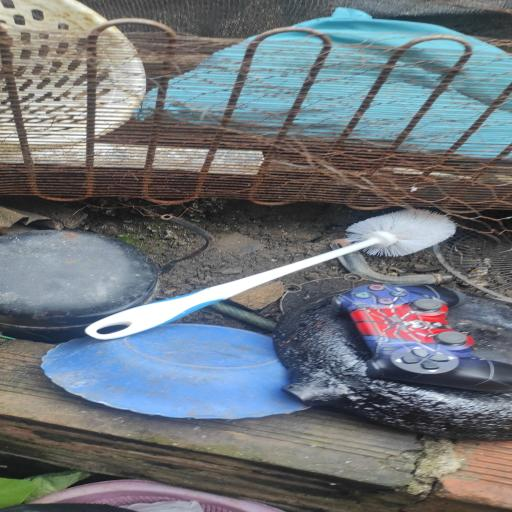ControlPlay4: (334, 284, 512, 393)
